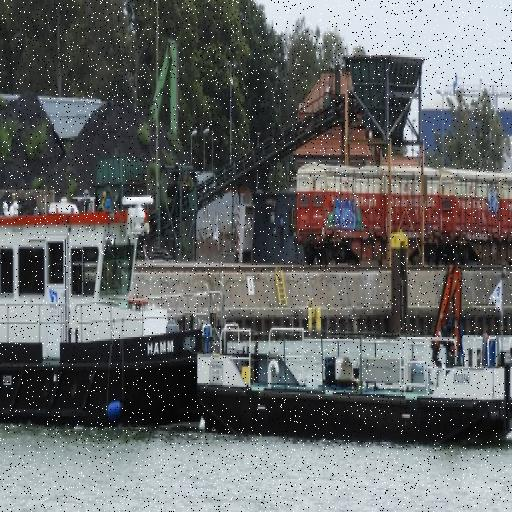tugboat: (1, 165, 512, 461)
